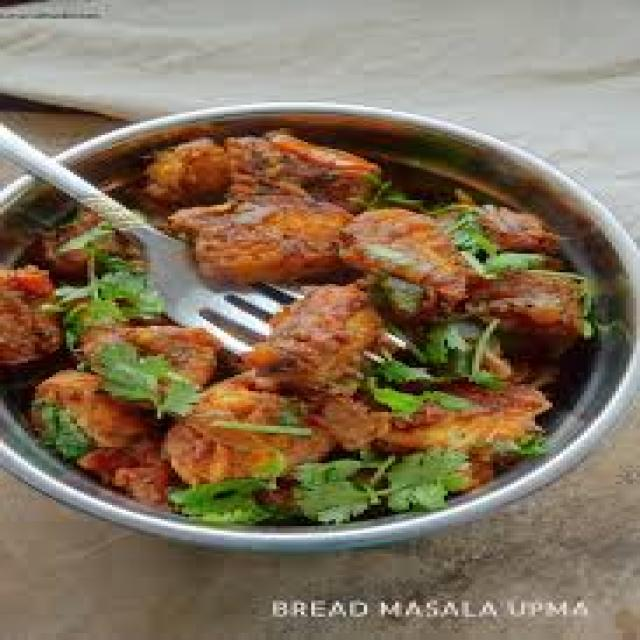BAJI: (0, 128, 591, 519)
